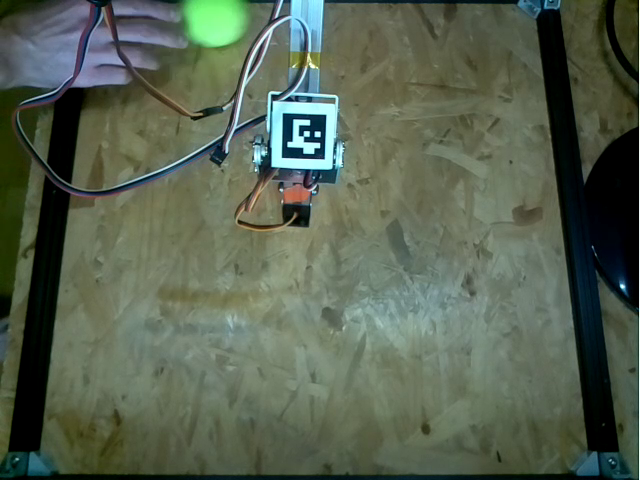tennis_ball: (183, 1, 250, 51)
